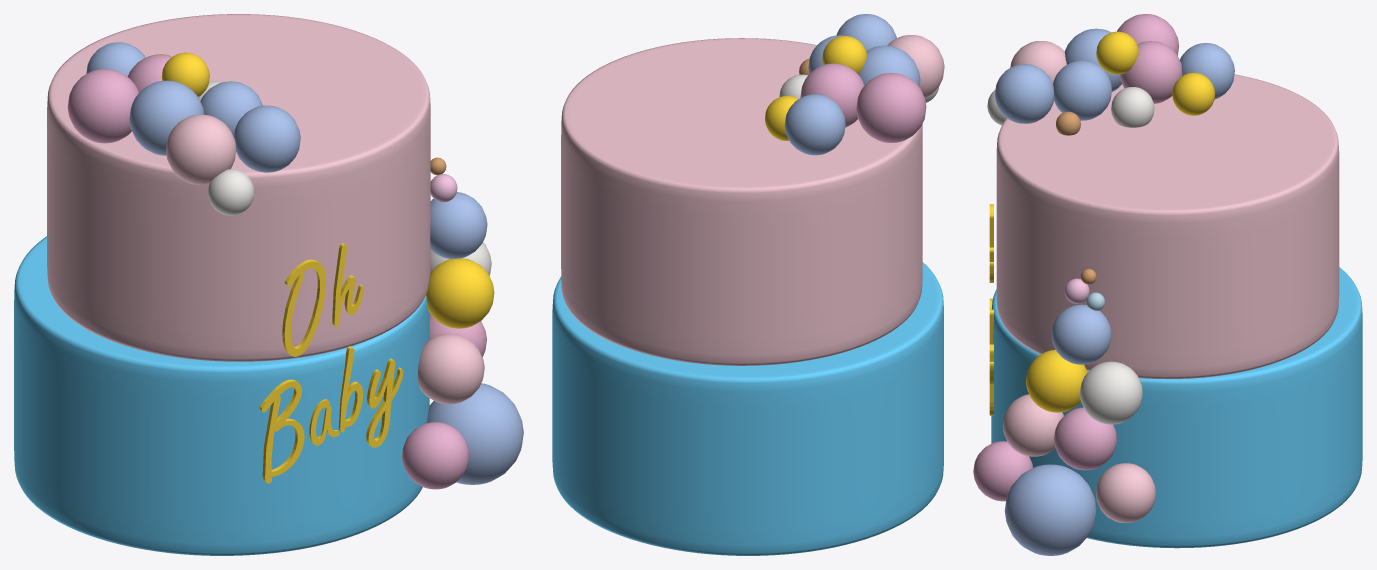
Rendered from Gender_Reveal_2.glb.
The picture shows the model from 3 angles, left to right: view 1: azimuth 30°, elevation 25°; view 2: azimuth 150°, elevation 25°; view 3: azimuth 270°, elevation 25°; orthographic projection. The views are drawn at different scales.
Visible parts, largest first — view 1: Circle.001, Circle, Text, Sphere, Sphere.014, Sphere.005, Sphere.010, Sphere.003, Sphere.002, Sphere.009, Sphere.012, Sphere.007 (+8 smaller); view 2: Circle.001, Circle, Sphere.014, Sphere.017, Sphere.015, Sphere.010, Sphere.012, Sphere.009, Sphere.013, Sphere.018; view 3: Circle.001, Circle, Sphere, Sphere.006, Sphere.004, Sphere.001, Sphere.009, Sphere.007, Sphere.005, Sphere.011, Sphere.003, Sphere.015 (+11 smaller).
Part boxes in pixels (<box>): Circle.001: <box>47,14,430,361</box>; Circle: <box>14,236,429,555</box>; Text: <box>259,243,403,483</box>; Sphere: <box>427,383,523,484</box>; Sphere.014: <box>67,69,138,143</box>; Sphere.005: <box>426,258,494,328</box>; Sphere.010: <box>166,114,236,184</box>; Sphere.003: <box>418,333,484,404</box>; Sphere.002: <box>402,422,469,489</box>; Sphere.009: <box>234,105,300,172</box>; Sphere.012: <box>129,80,203,155</box>; Sphere.007: <box>430,192,487,258</box>; Circle.001: <box>561,38,922,365</box>; Circle: <box>552,262,943,555</box>; Sphere.014: <box>856,73,926,142</box>; Sphere.017: <box>784,94,845,155</box>; Sphere.015: <box>800,63,864,127</box>; Sphere.010: <box>887,35,944,97</box>; Sphere.012: <box>858,45,920,86</box>; Sphere.009: <box>836,14,896,50</box>; Sphere.013: <box>822,36,866,74</box>; Sphere.018: <box>764,96,798,140</box>; Circle.001: <box>996,74,1339,378</box>; Circle: <box>991,267,1362,548</box>; Sphere: <box>1004,464,1096,555</box>; Sphere.006: <box>1079,361,1142,424</box>; Sphere.004: <box>1054,407,1116,470</box>; Sphere.001: <box>1096,463,1155,523</box>; Sphere.009: <box>995,64,1054,123</box>; Sphere.007: <box>1051,304,1111,364</box>; Sphere.005: <box>1026,349,1087,412</box>; Sphere.011: <box>1053,60,1111,120</box>; Sphere.003: <box>1002,394,1063,456</box>; Sphere.015: <box>1120,41,1182,103</box>.
Bounding box in the file's own units: 0.148 × 0.1583 × 0.1364.
